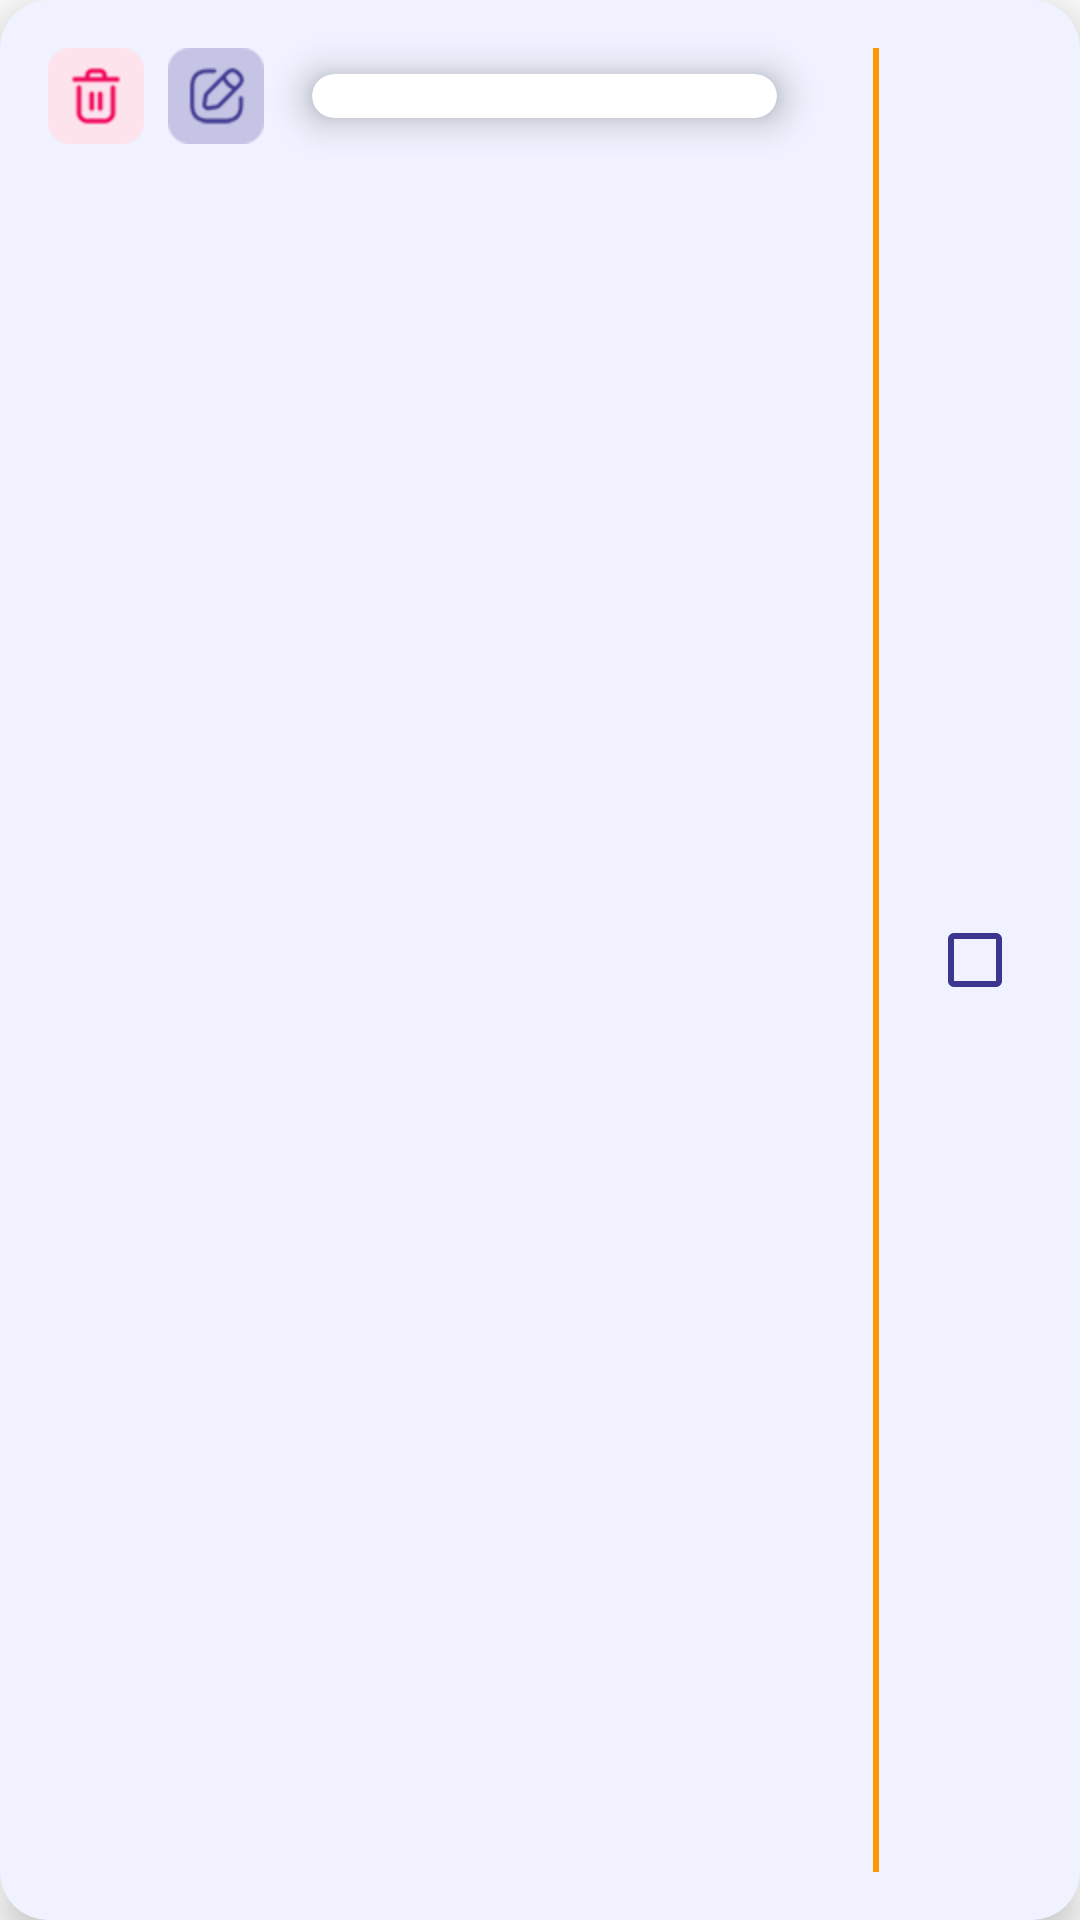

Locate icon controls on the screen. Image size 1080 × 1920, boxes as (x1, y1, x2, y2).
bin: (71, 67, 121, 125)
edit: (168, 48, 264, 144)
